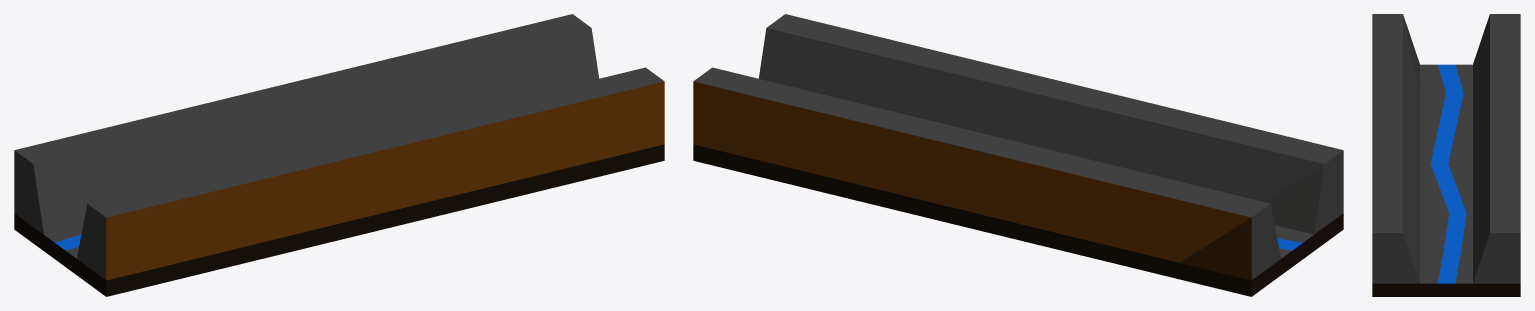
Rendered from SM_river.FBX.
3 renders of one model, left to right at view 1: azimuth 30°, elevation 25°; view 2: azimuth 150°, elevation 25°; view 3: azimuth 270°, elevation 25°, orthographic. The views are drawn at different scales.
Parts seen in each view (by area): view 1: river; view 2: river; view 3: river.
Boxes of the visible parts, bbox=[...] form: river: bbox=[14, 14, 664, 296]; river: bbox=[693, 14, 1343, 296]; river: bbox=[1372, 14, 1520, 296].
Size of the model in its own units: 3500 by 476 by 1000.
